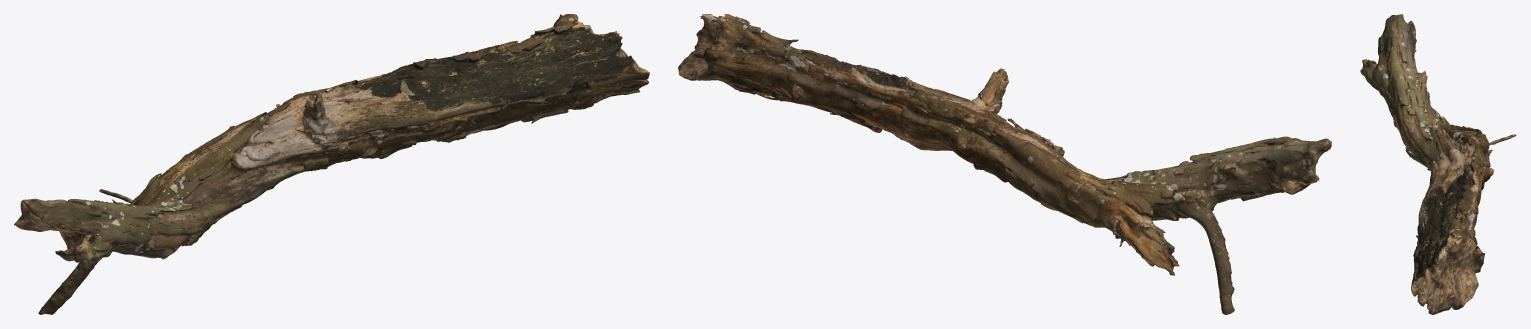
The model's file is prop_log.glb.
The picture shows the model from 3 angles, left to right: view 1: azimuth 30°, elevation 25°; view 2: azimuth 150°, elevation 25°; view 3: azimuth 270°, elevation 25°; orthographic projection. The views are drawn at different scales.
Parts seen in each view (by area): view 1: dead_tree_trunk_02; view 2: dead_tree_trunk_02; view 3: dead_tree_trunk_02.
Boxes of the visible parts, bbox=[...] form: dead_tree_trunk_02: bbox=[14, 14, 649, 314]; dead_tree_trunk_02: bbox=[678, 14, 1331, 314]; dead_tree_trunk_02: bbox=[1360, 14, 1516, 314].
Bounding box in the file's own units: 4.05 × 1.06 × 1.06.
1 material, 1 textured.
